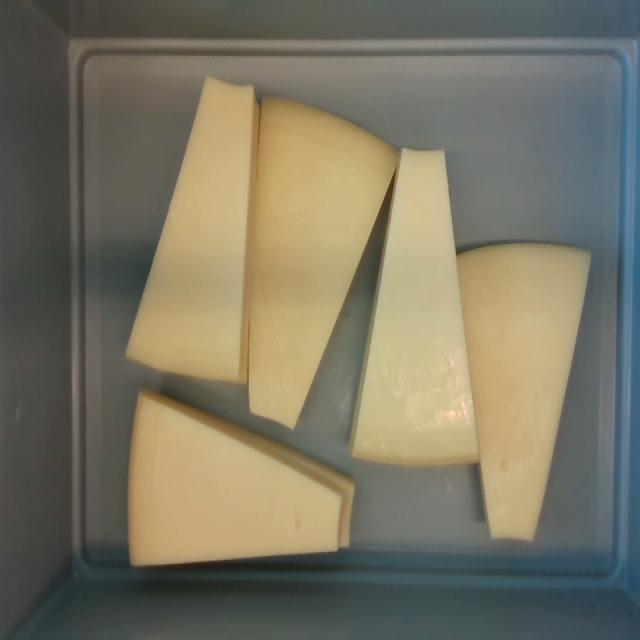cheese: (251, 99, 399, 428), (352, 145, 478, 466), (458, 247, 592, 543), (124, 71, 252, 378), (131, 392, 341, 568)
